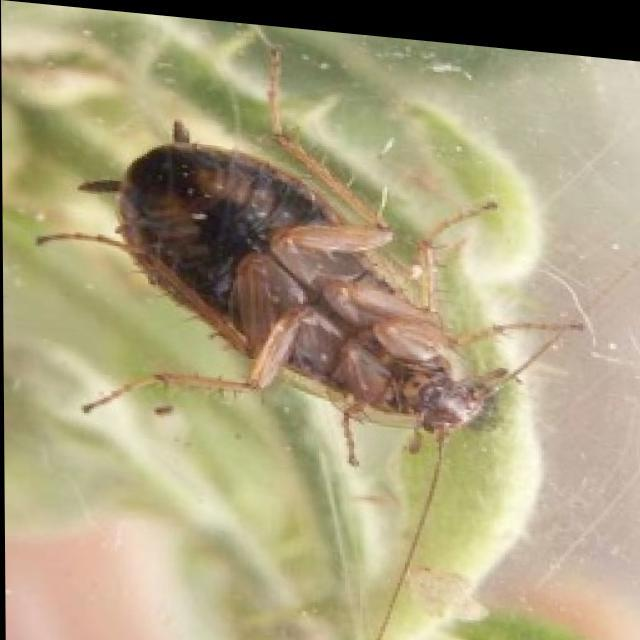cockroach: (67, 97, 531, 508)
